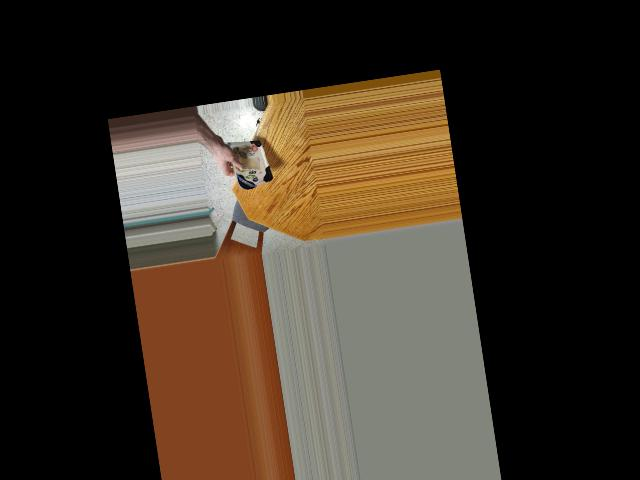cheese: (226, 126, 272, 193)
